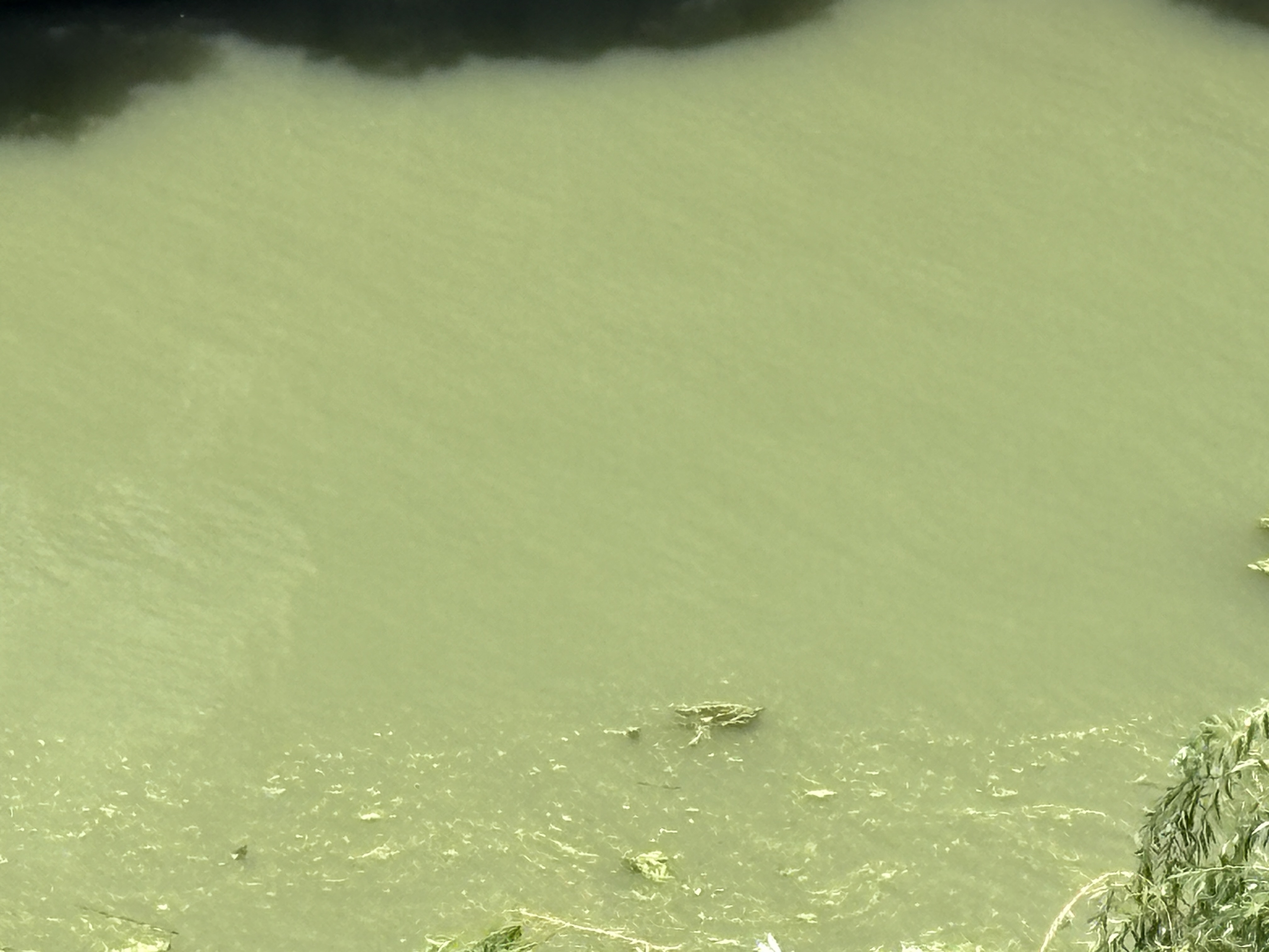Other: (684, 703, 757, 729), (621, 848, 674, 881)
